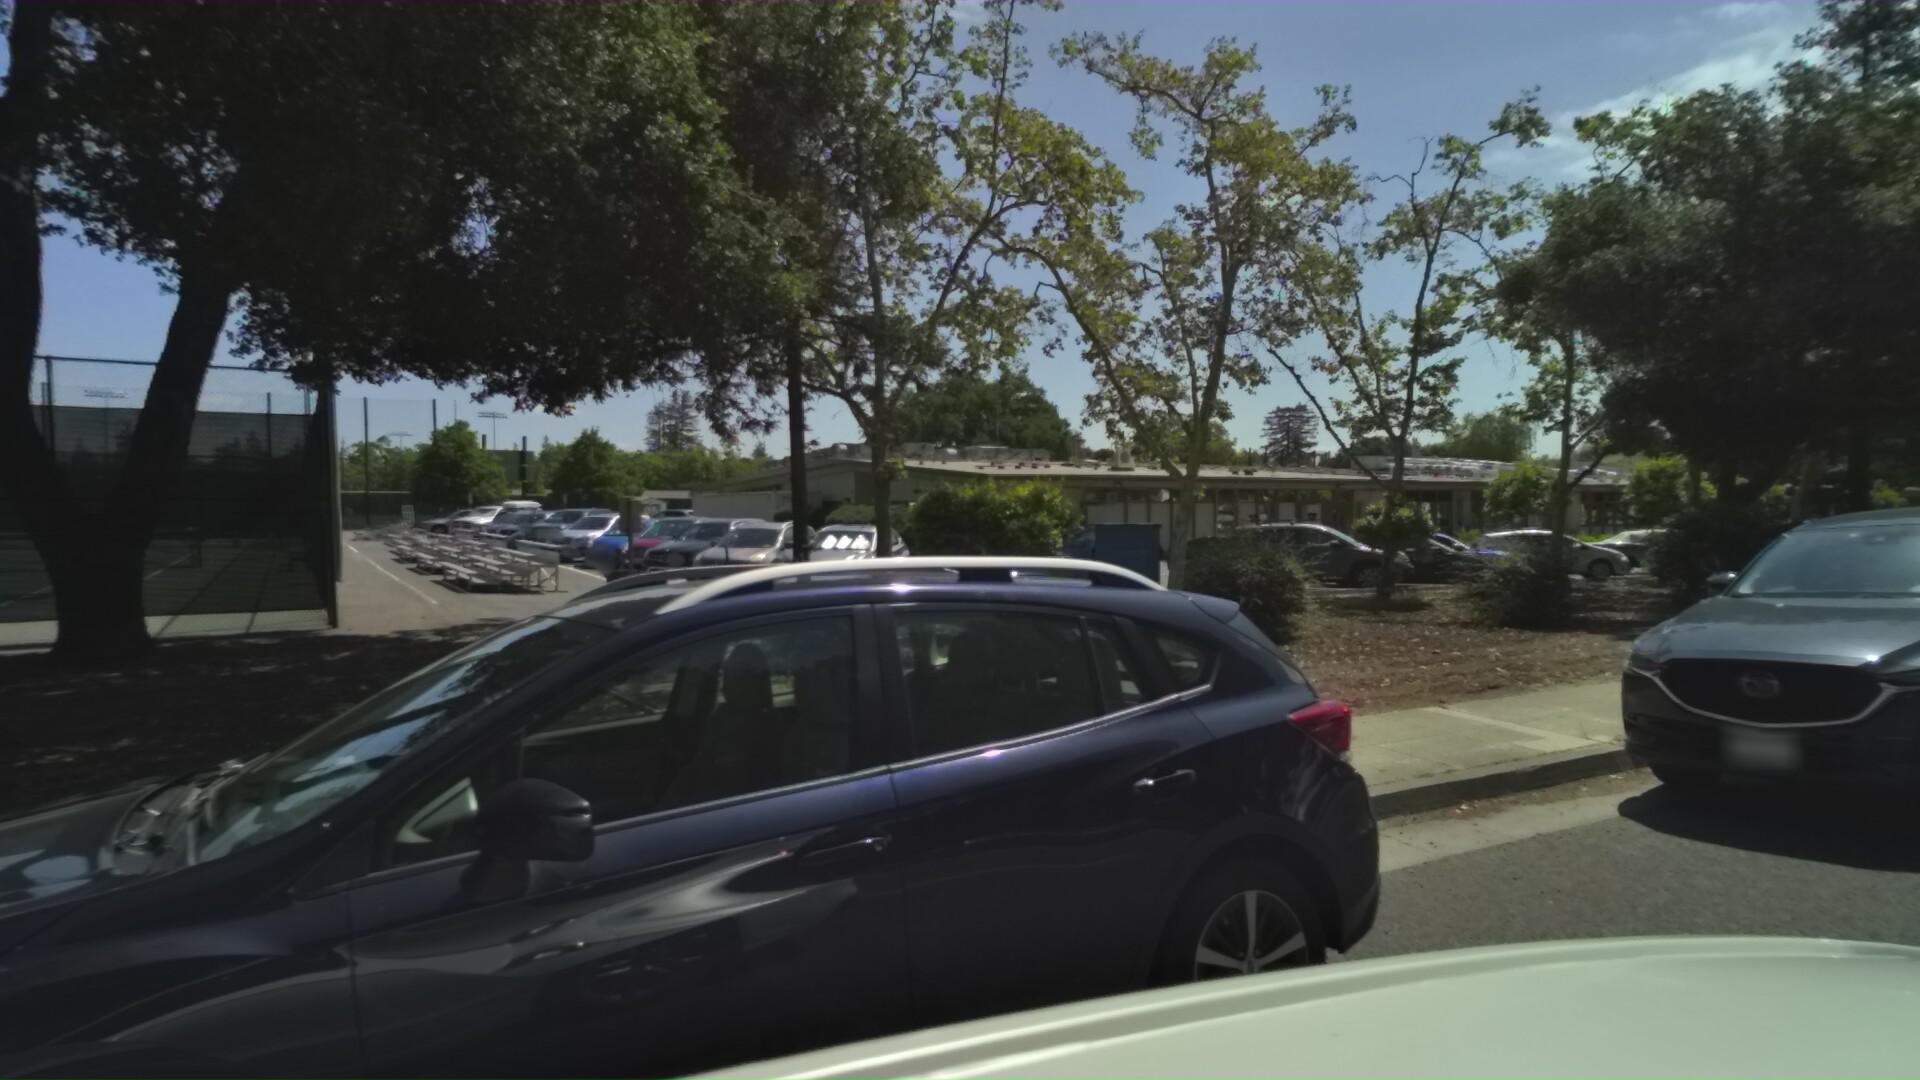car: (0, 526, 1592, 1080), (1625, 493, 1920, 876)
